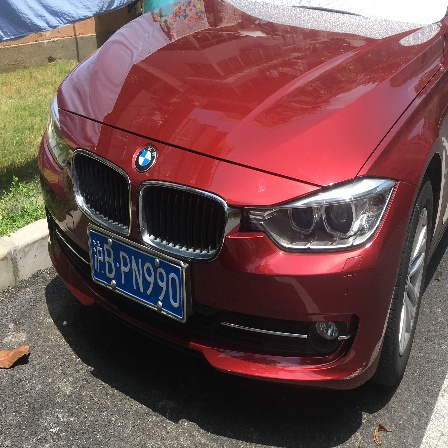plate: (86, 228, 185, 320)
